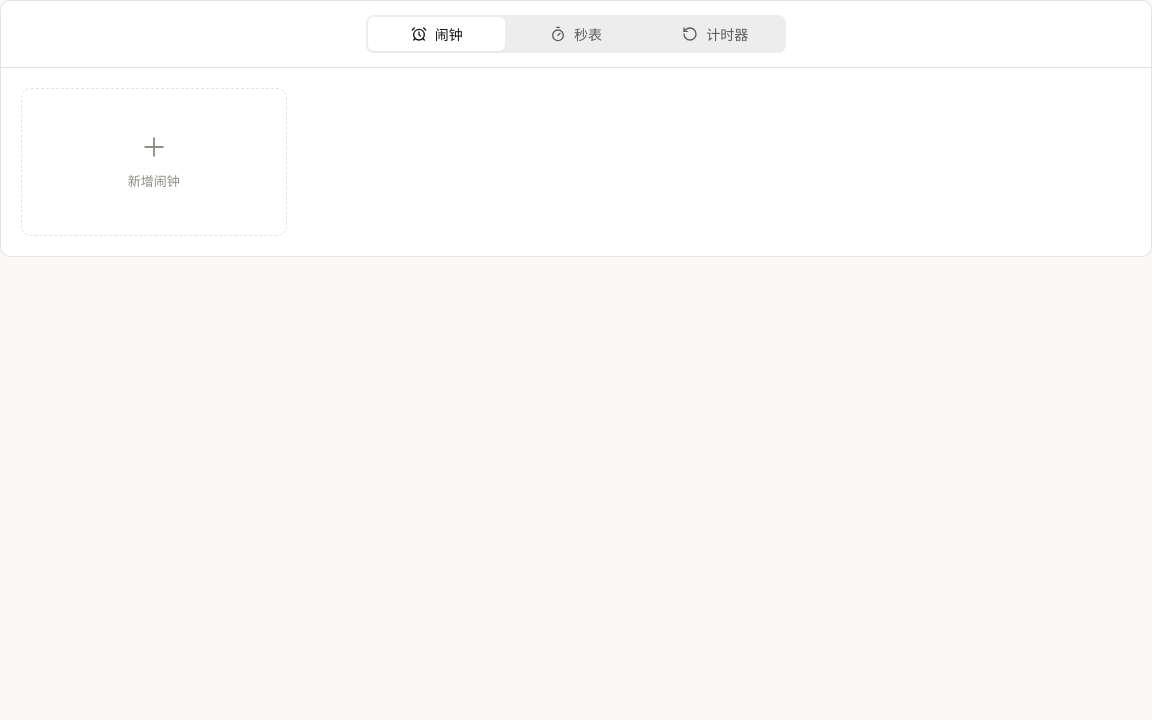
Scenario: 取消编辑不保存星期和标签，重新打开恢复默认值
Click the button with class "add-alarm" at (154, 162), box x1=21 y1=88 x2=286 y2=236
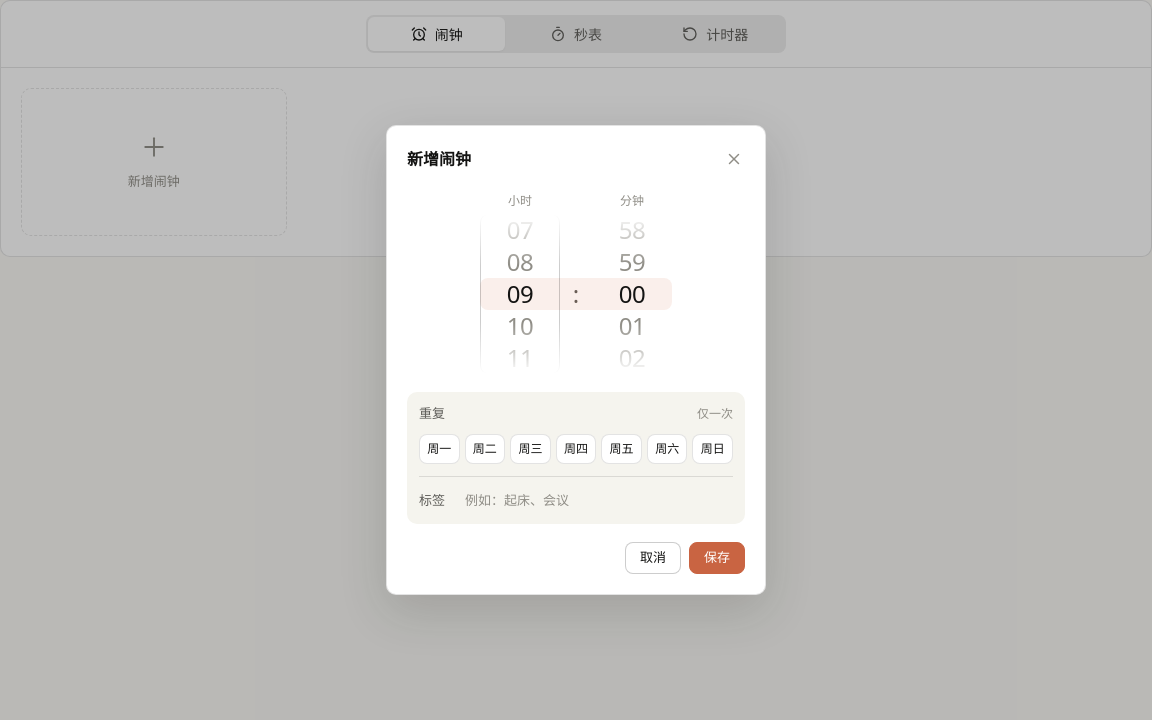
Expected: the button with class "weekday-toggle" showing "周一" is shown
Click the button with class "weekday-toggle" showing "周一" at (439, 449), box x1=419 y1=434 x2=460 y2=464
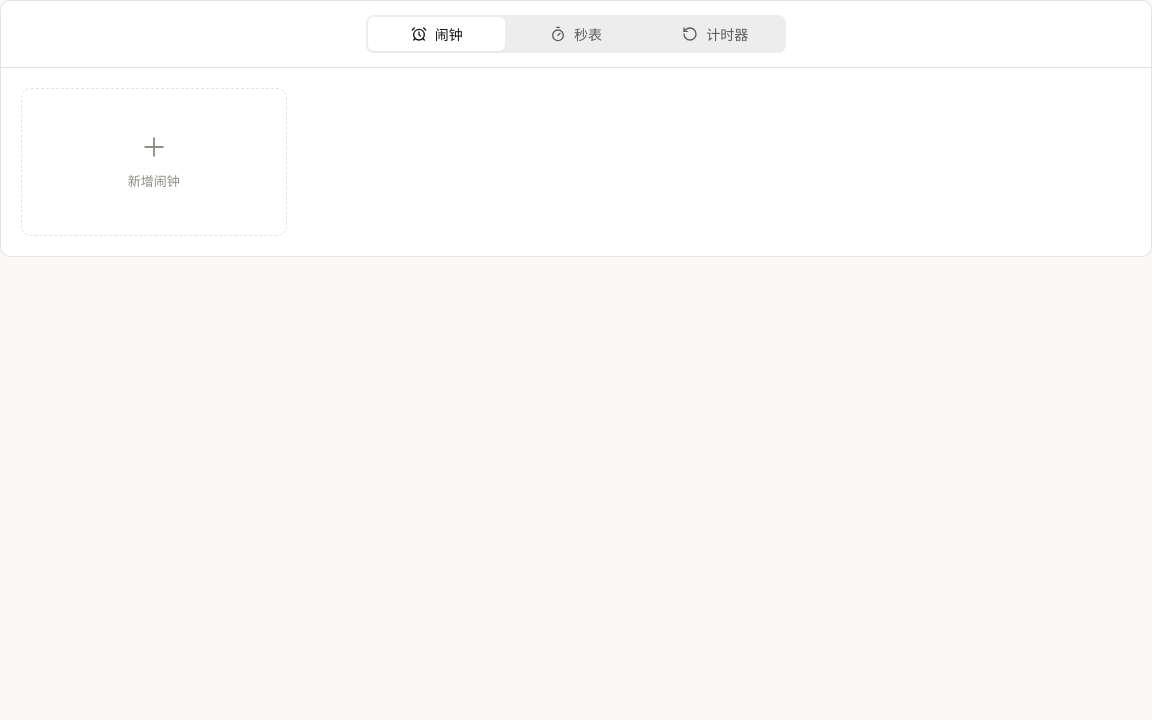
Click the button with class "add-alarm" at (154, 162), box x1=21 y1=88 x2=286 y2=236
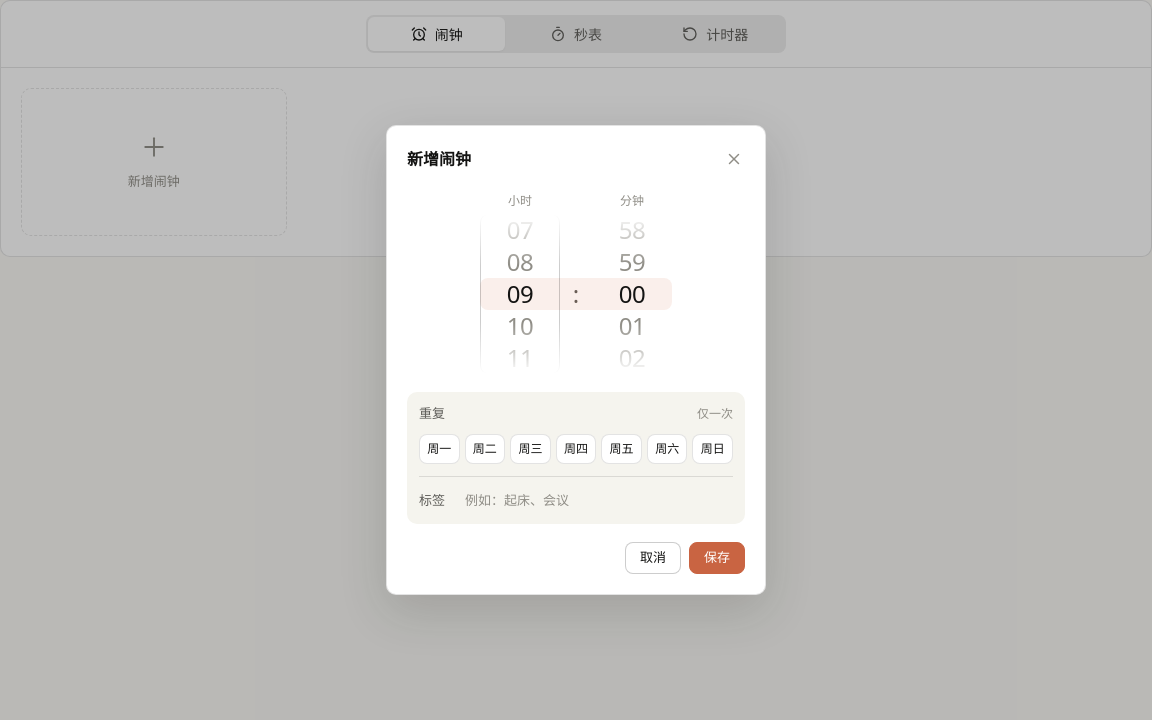
Expected: the text with class "repeat-summary" reads "仅一次", x1=697 y1=405 x2=733 y2=422
